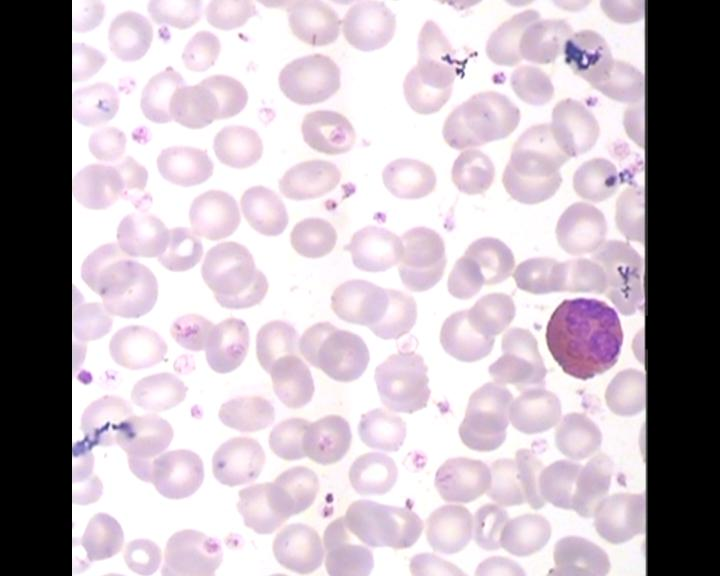eosi: (542, 296, 624, 383)
